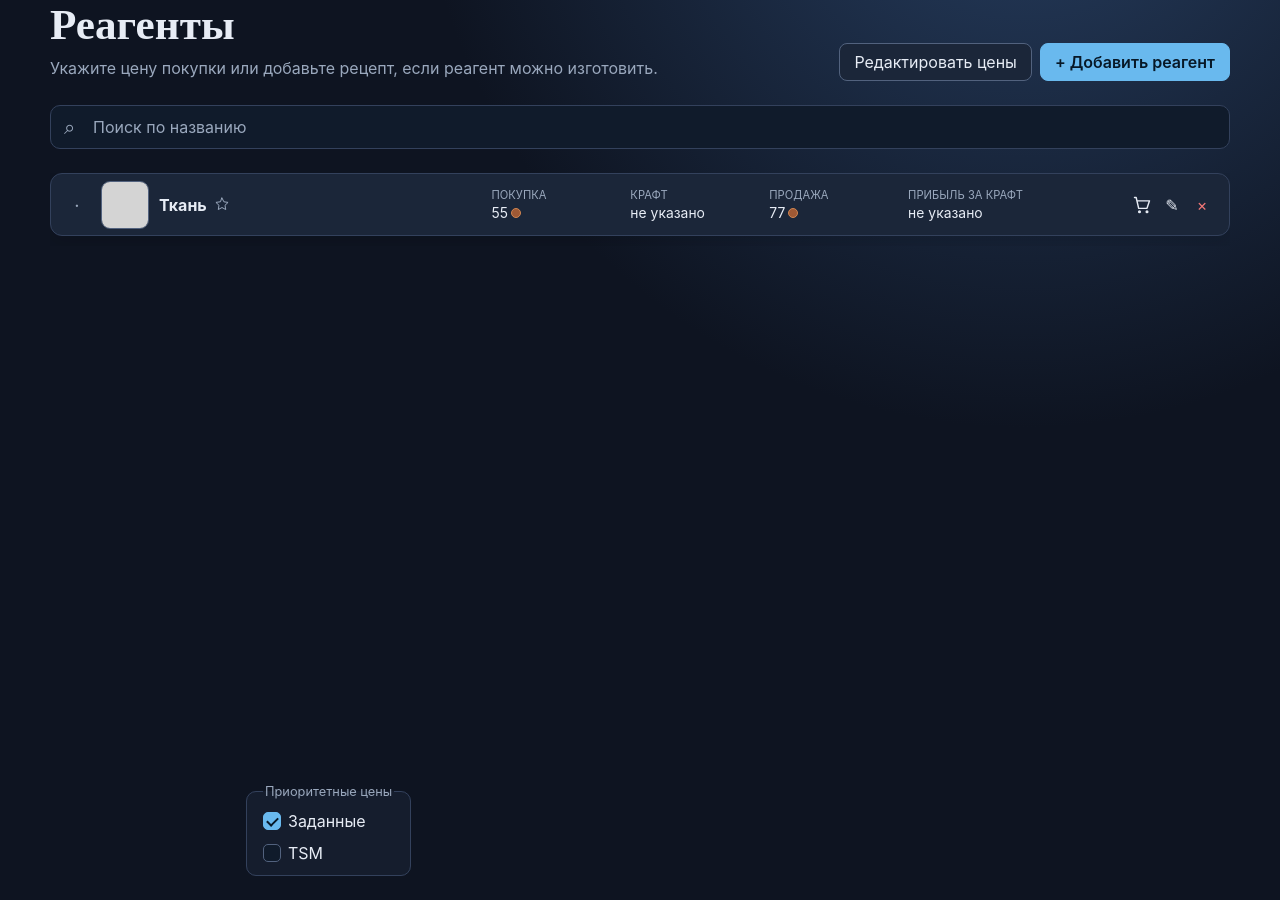
TSM в tbc › без ID объясняет недоступность, чужой рынок не показывает цену
The width and height of the screenshot is (1280, 900).
Step 1. Click the button named "Редактировать Ткань" → (1172, 204), box [1157,189,1187,219]
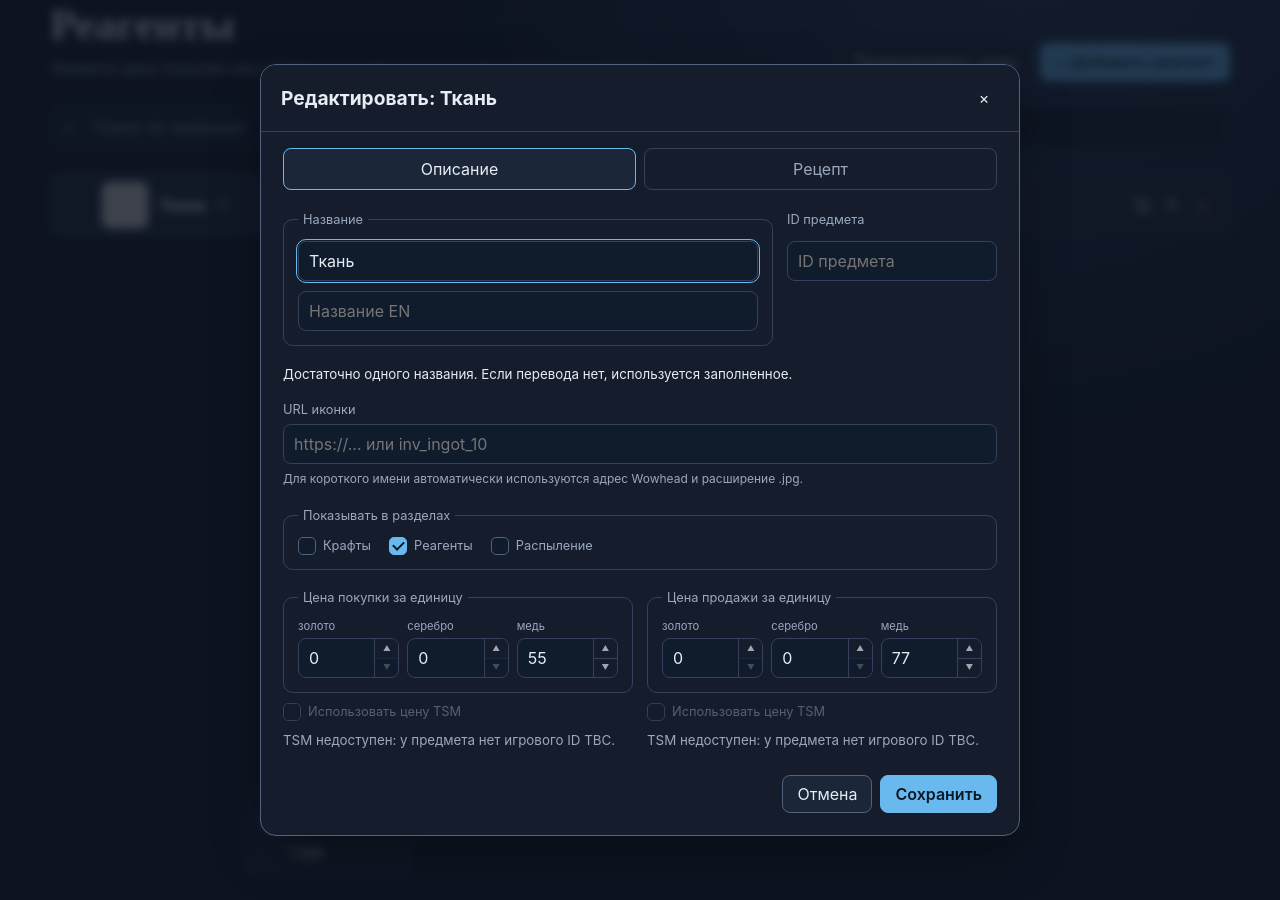
Expected: the checkbox named "Использовать цену TSM: Цена покупки за единицу" is disabled, [283,703,461,721]
